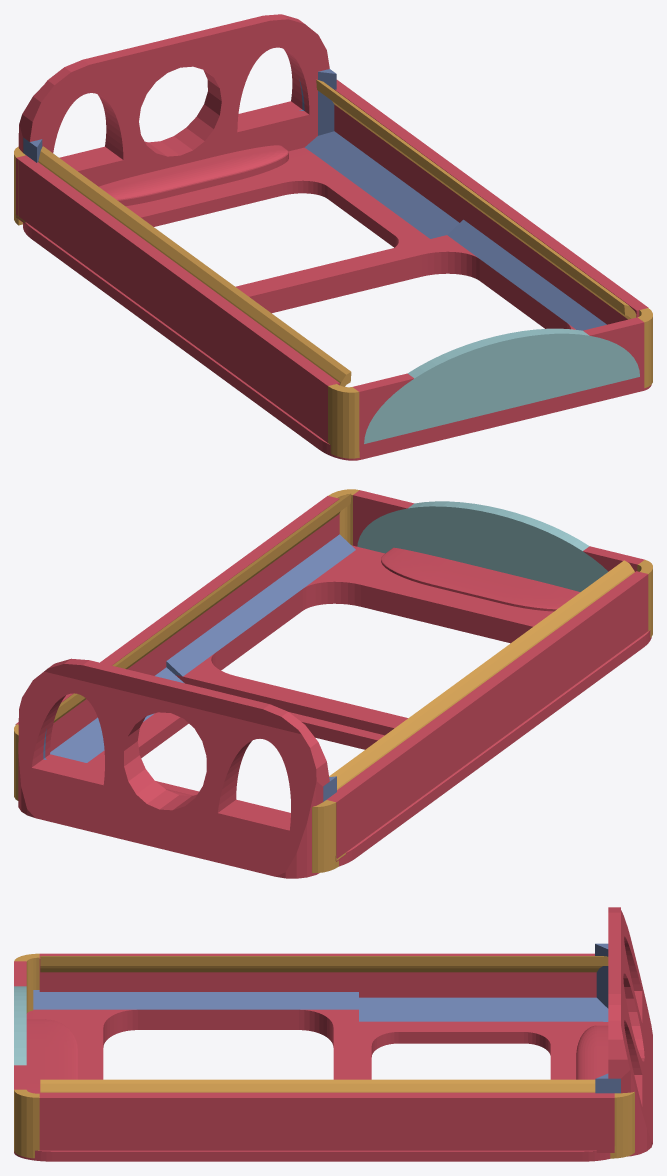
File: ranger-cover-no-sma-collar.glb
3 renders of one model, top to bottom at view 1: azimuth 30°, elevation 25°; view 2: azimuth 150°, elevation 25°; view 3: azimuth 270°, elevation 25°, orthographic. The views are drawn at different scales.
Visible parts, largest first — view 1: Mesh_Mesh_head_geo.001_lambert2SG.001; view 2: Mesh_Mesh_head_geo.001_lambert2SG.001; view 3: Mesh_Mesh_head_geo.001_lambert2SG.001.
Boxes of the visible parts, bbox=[...] form: Mesh_Mesh_head_geo.001_lambert2SG.001: bbox=[14, 14, 652, 460]; Mesh_Mesh_head_geo.001_lambert2SG.001: bbox=[14, 489, 652, 878]; Mesh_Mesh_head_geo.001_lambert2SG.001: bbox=[14, 907, 652, 1161].
Size of the model in its own units: 54 by 23.5 by 100.
